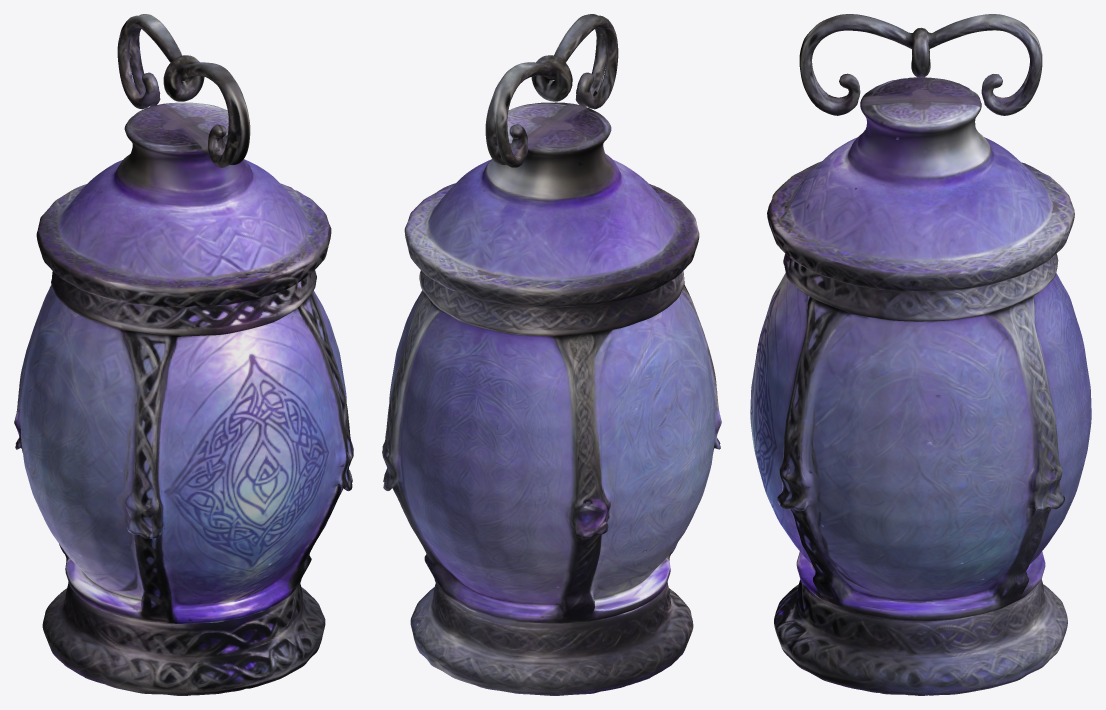
File: Celtic_Crystal_Lanter_0613141358_.fbx
3 views of the same model, side by side, from view 1: azimuth 30°, elevation 25°; view 2: azimuth 150°, elevation 25°; view 3: azimuth 270°, elevation 25° (orthographic). The views are drawn at different scales.
Parts seen in each view (by area): view 1: Mesh1_Mesh1.009; view 2: Mesh1_Mesh1.009; view 3: Mesh1_Mesh1.009.
Part boxes in pixels (x1,y1,x2,y2): Mesh1_Mesh1.009: (14,14,353,695); Mesh1_Mesh1.009: (382,14,721,695); Mesh1_Mesh1.009: (750,14,1091,695).
Bounding box in the file's own units: 99.81 × 200 × 99.44.
Materials: 1 (1 with a texture image).
